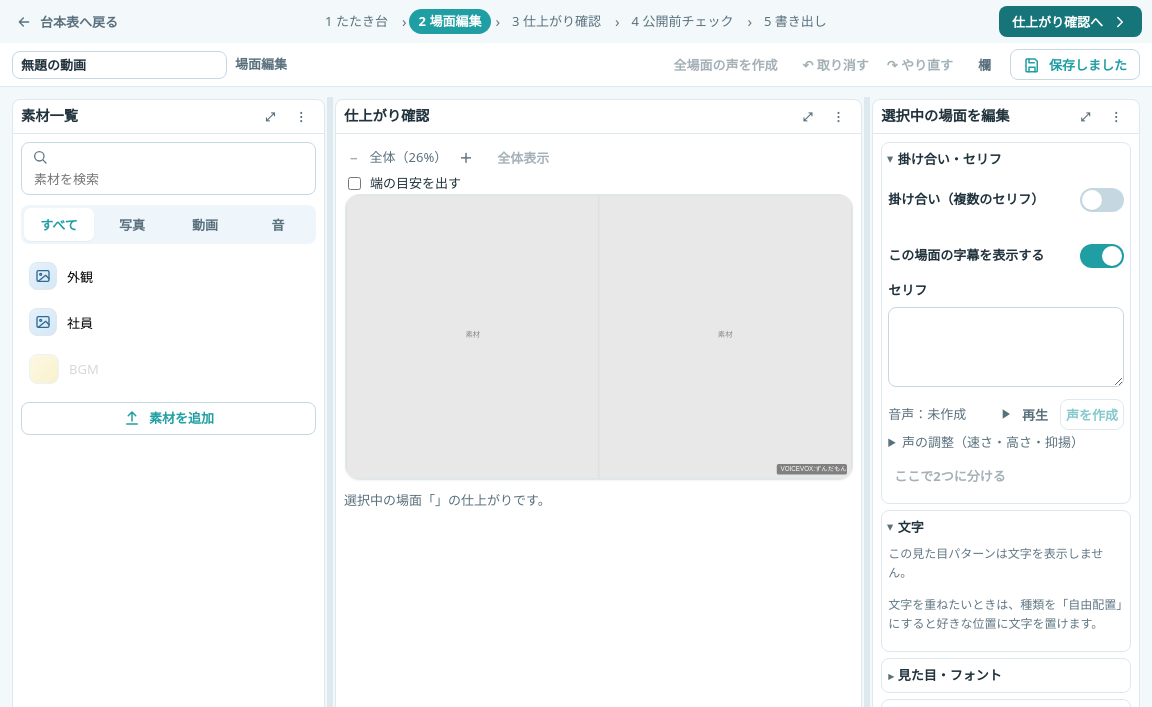
Test: 素材タイルから差し込み口へ入れられる（#1030 ①） › 空きが無いときは、入れ替える前に確認を出す
Click the button "社員".
click(43, 322)  # box [21, 300, 316, 344]
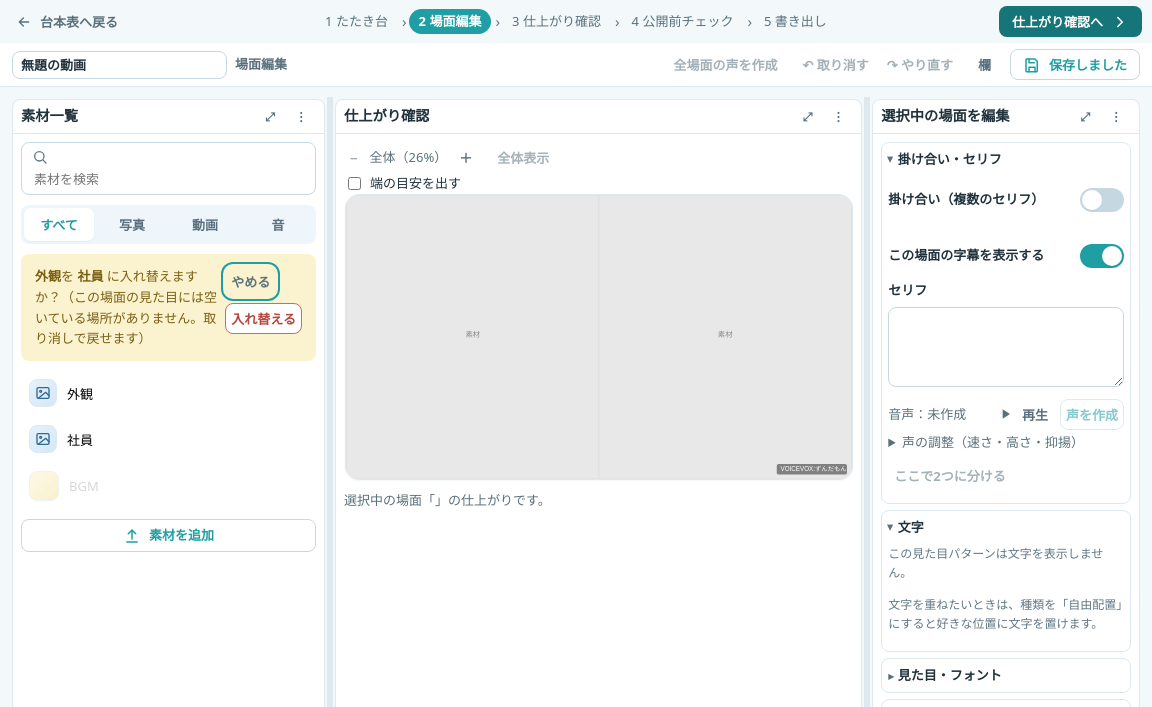
Expected: the text "入れ替えますか" is shown, [35, 267, 217, 347]
